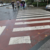zebra: (9, 8, 50, 45)
